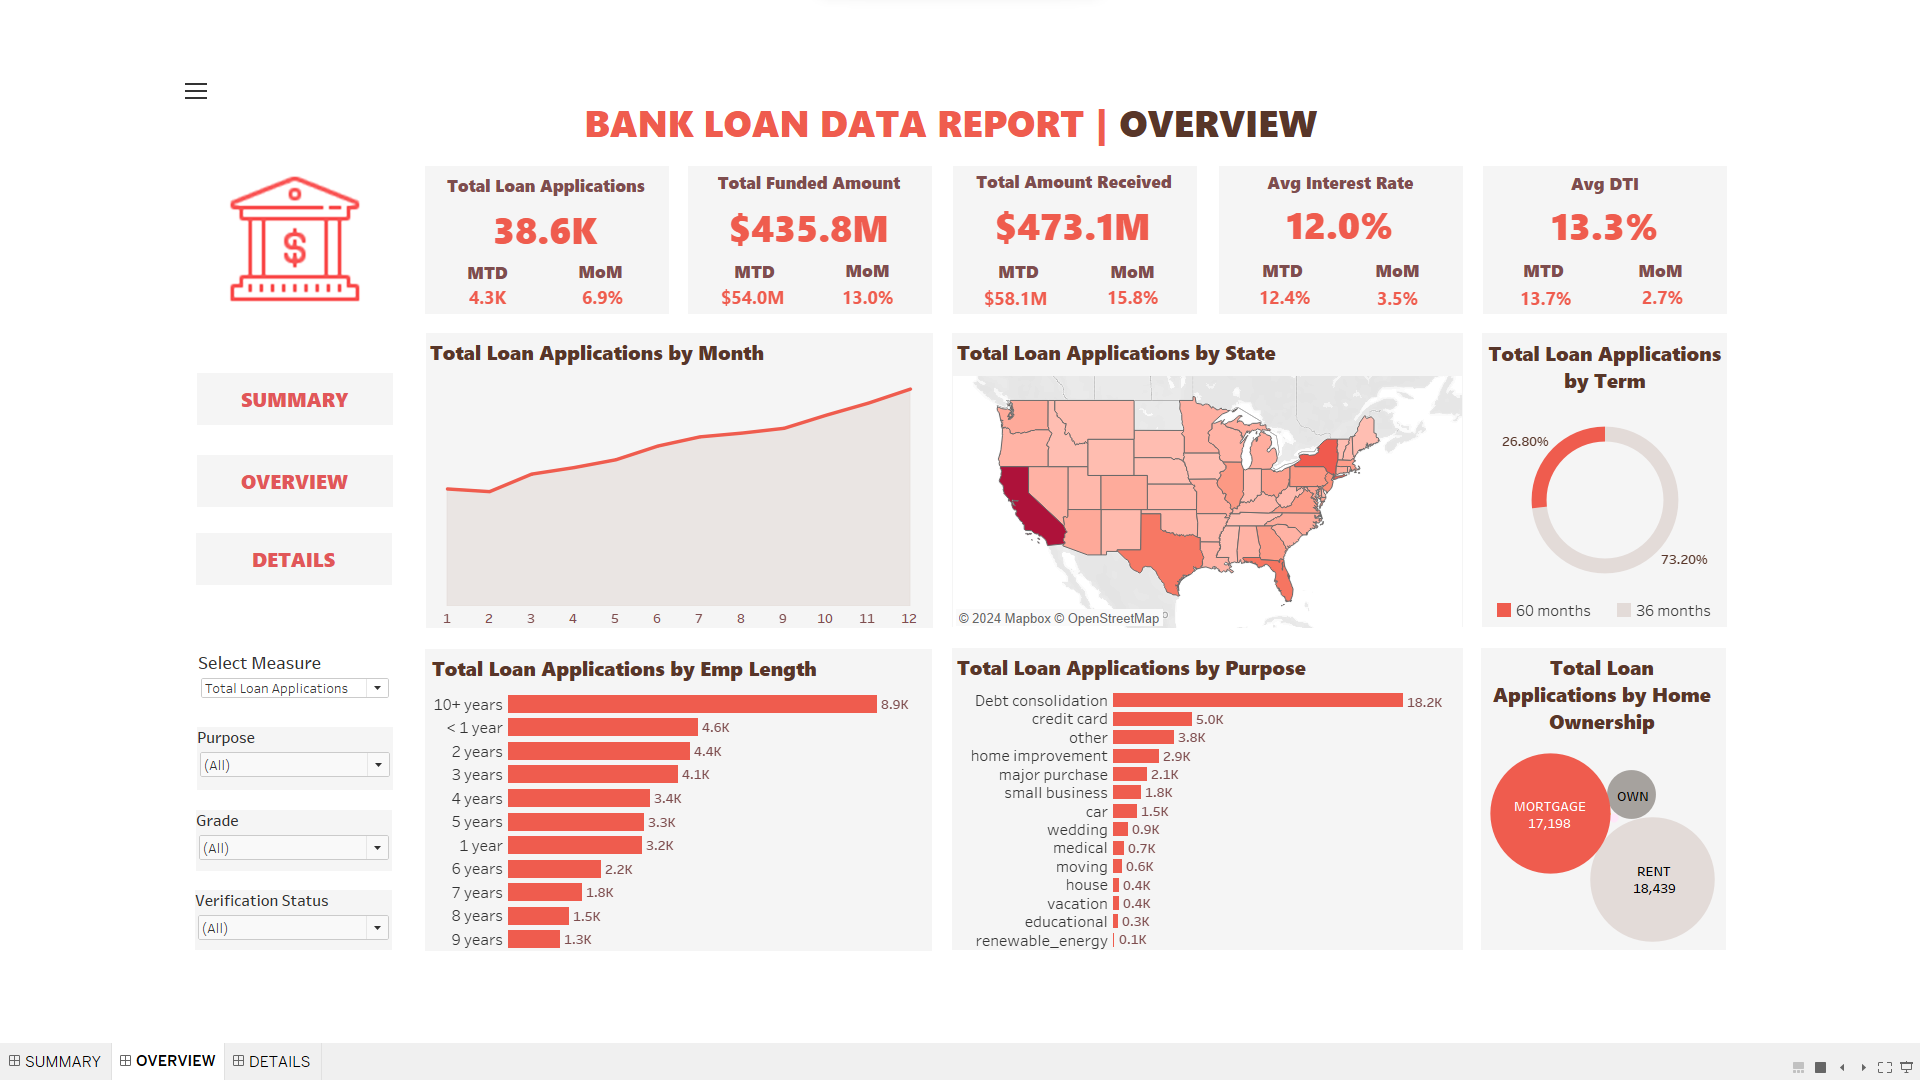

This screenshot's page, from the dashboard's own definition file:
{"tool":"tableau","page":{"name":"OVERVIEW","canvas":[1600,900],"ordinal":1},"visuals":[{"type":"dashboard-object","box":[0,8,24,24]},{"type":"dashboard-object","box":[24,8,24,24]},{"type":"text","box":[421,11,810,81]},{"type":"blank","box":[265,95,244,148]},{"type":"blank","box":[528,95,244,148]},{"type":"blank","box":[793,95,244,148]},{"type":"worksheet","title":"Total Amount Received","mark":"Automatic","box":[793,95,242,81]},{"type":"blank","box":[1059,95,244,148]},{"type":"blank","box":[1323,95,244,148]},{"type":"worksheet","title":"Total Funded Amount","mark":"Automatic","box":[527,96,244,83]},{"type":"worksheet","title":"Avg Interest Rate","mark":"Automatic","box":[1060,96,241,78]},{"type":"image","param":"C:/Users/Sylvi/Downloads/icons8bank-building.png","box":[64,97,143,145]},{"type":"worksheet","title":"Avg DTI","mark":"Automatic","box":[1325,97,240,77]},{"type":"worksheet","title":"Total Loan Applications","mark":"Automatic","box":[266,99,240,82]},{"type":"text","box":[675,184,65,30]},{"type":"text","box":[1090,184,65,30]},{"type":"text","box":[1205,184,65,30]},{"type":"text","box":[1351,184,65,30]},{"type":"text","box":[1468,184,65,30]},{"type":"text","box":[408,185,65,30]},{"type":"text","box":[562,185,65,30]},{"type":"text","box":[826,185,65,30]},{"type":"text","box":[940,185,65,30]},{"type":"text","box":[295,186,65,30]},{"type":"worksheet","title":"MoM Total Amount Received","mark":"Automatic","box":[924,205,98,42]},{"type":"worksheet","title":"MTD Avg DTI","mark":"Automatic","box":[1339,205,94,45]},{"type":"worksheet","title":"MTD Avg Int Rate","mark":"Automatic","box":[1084,208,83,37]},{"type":"worksheet","title":"MoM Avg DTI","mark":"Automatic","box":[1467,208,72,36]},{"type":"worksheet","title":"MoM Loan Applications","mark":"Automatic","box":[407,209,73,35]},{"type":"worksheet","title":"MoM Total Funded Amount","mark":"Automatic","box":[663,209,90,34]},{"type":"worksheet","title":"MoM Avg Int Rate","mark":"Automatic","box":[1195,209,86,37]},{"type":"worksheet","title":"MTD Total Amout Received","mark":"Automatic","box":[809,210,94,35]},{"type":"worksheet","title":"MTD Total Loan Applications","mark":"Automatic","box":[282,211,92,30]},{"type":"worksheet","title":"MTD Total Funded Amount","mark":"Automatic","box":[554,211,79,31]},{"type":"blank","box":[266,262,507,295]},{"type":"blank","box":[792,262,511,294]},{"type":"blank","box":[1322,262,245,294]},{"type":"worksheet","title":"Month","mark":"Area","rows":["Calculation_1340102406621175840","Calculation_1340102406621175840"],"cols":["issue_date"],"box":[266,263,505,294]},{"type":"worksheet","title":"State","mark":"Multipolygon","box":[793,263,509,294]},{"type":"worksheet","title":"Term","mark":"Pie","rows":["Calculation_1340102406633066531","Calculation_1340102406633066531"],"box":[1324,264,242,261]},{"type":"dashboard-object","box":[37,302,196,52]},{"type":"dashboard-object","box":[37,384,196,52]},{"type":"dashboard-object","box":[36,462,196,52]},{"type":"legend","title":"Term","param":"[federated.0o8ds8i1wbf4nt19vdyb61pz2yw0].[none:term:nk]","box":[1334,529,258,29]},{"type":"blank","box":[792,577,511,302]},{"type":"blank","box":[1321,577,245,302]},{"type":"blank","box":[265,578,507,302]},{"type":"worksheet","title":"Purpose","mark":"Automatic","rows":["purpose"],"cols":["Calculation_1340102406621175840"],"box":[793,578,508,300]},{"type":"worksheet","title":"Home Ownership","mark":"Circle","box":[1329,578,226,301]},{"type":"parameter","param":"[Parameters].[Parameter 1]","box":[38,579,194,58]},{"type":"worksheet","title":"Emp Length","mark":"Automatic","rows":["emp_length"],"cols":["Calculation_1340102406621175840"],"box":[268,579,503,301]},{"type":"filter","title":"Avg DTI","param":"[federated.0o8ds8i1wbf4nt19vdyb61pz2yw0].[none:purpose:nk]","box":[37,656,196,63]},{"type":"filter","title":"Avg DTI","param":"[federated.0o8ds8i1wbf4nt19vdyb61pz2yw0].[none:grade:nk]","box":[36,739,196,61]},{"type":"filter","title":"Avg DTI","param":"[federated.0o8ds8i1wbf4nt19vdyb61pz2yw0].[none:verification_status:nk]","box":[35,819,197,60]}]}

Visuals, with their boxes on the page's 1600x900 design canvas (x1, y1, x2, y2). These are canvas units, not pixel positions in the 1920x1080 screenshot, which may show the page scaled, cropped or inside an application window:
dashboard-object: bbox=[0, 8, 24, 32]
dashboard-object: bbox=[24, 8, 48, 32]
text: bbox=[421, 11, 1231, 92]
blank: bbox=[265, 95, 509, 243]
blank: bbox=[528, 95, 772, 243]
blank: bbox=[793, 95, 1037, 243]
"Total Amount Received" worksheet: bbox=[793, 95, 1035, 176]
blank: bbox=[1059, 95, 1303, 243]
blank: bbox=[1323, 95, 1567, 243]
"Total Funded Amount" worksheet: bbox=[527, 96, 771, 179]
"Avg Interest Rate" worksheet: bbox=[1060, 96, 1301, 174]
image: bbox=[64, 97, 207, 242]
"Avg DTI" worksheet: bbox=[1325, 97, 1565, 174]
"Total Loan Applications" worksheet: bbox=[266, 99, 506, 181]
text: bbox=[675, 184, 740, 214]
text: bbox=[1090, 184, 1155, 214]
text: bbox=[1205, 184, 1270, 214]
text: bbox=[1351, 184, 1416, 214]
text: bbox=[1468, 184, 1533, 214]
text: bbox=[408, 185, 473, 215]
text: bbox=[562, 185, 627, 215]
text: bbox=[826, 185, 891, 215]
text: bbox=[940, 185, 1005, 215]
text: bbox=[295, 186, 360, 216]
"MoM Total Amount Received" worksheet: bbox=[924, 205, 1022, 247]
"MTD Avg DTI" worksheet: bbox=[1339, 205, 1433, 250]
"MTD Avg Int Rate" worksheet: bbox=[1084, 208, 1167, 245]
"MoM Avg DTI" worksheet: bbox=[1467, 208, 1539, 244]
"MoM Loan Applications" worksheet: bbox=[407, 209, 480, 244]
"MoM Total Funded Amount" worksheet: bbox=[663, 209, 753, 243]
"MoM Avg Int Rate" worksheet: bbox=[1195, 209, 1281, 246]
"MTD Total Amout Received" worksheet: bbox=[809, 210, 903, 245]
"MTD Total Loan Applications" worksheet: bbox=[282, 211, 374, 241]
"MTD Total Funded Amount" worksheet: bbox=[554, 211, 633, 242]
blank: bbox=[266, 262, 773, 557]
blank: bbox=[792, 262, 1303, 556]
blank: bbox=[1322, 262, 1567, 556]
"Month" worksheet (Area marks): bbox=[266, 263, 771, 557]
"State" worksheet (Multipolygon marks): bbox=[793, 263, 1302, 557]
"Term" worksheet (Pie marks): bbox=[1324, 264, 1566, 525]
dashboard-object: bbox=[37, 302, 233, 354]
dashboard-object: bbox=[37, 384, 233, 436]
dashboard-object: bbox=[36, 462, 232, 514]
"Term" legend: bbox=[1334, 529, 1592, 558]
blank: bbox=[792, 577, 1303, 879]
blank: bbox=[1321, 577, 1566, 879]
blank: bbox=[265, 578, 772, 880]
"Purpose" worksheet: bbox=[793, 578, 1301, 878]
"Home Ownership" worksheet (Circle marks): bbox=[1329, 578, 1555, 879]
parameter: bbox=[38, 579, 232, 637]
"Emp Length" worksheet: bbox=[268, 579, 771, 880]
"Avg DTI" filter: bbox=[37, 656, 233, 719]
"Avg DTI" filter: bbox=[36, 739, 232, 800]
"Avg DTI" filter: bbox=[35, 819, 232, 879]
